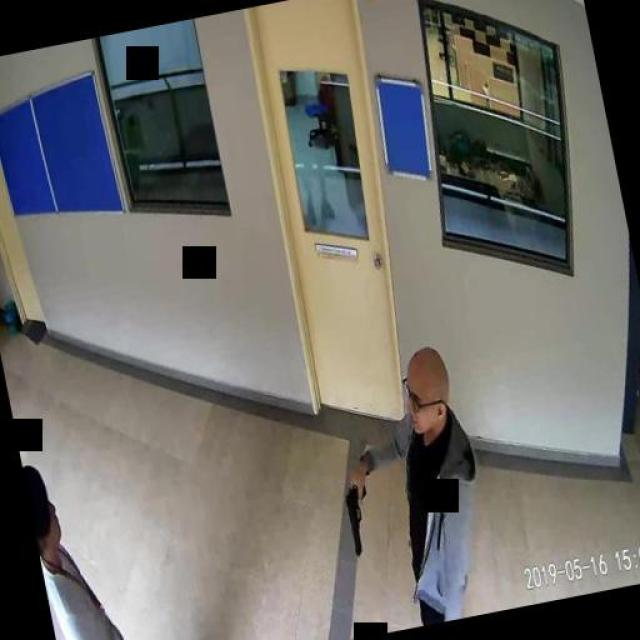gun: (340, 479, 378, 555)
